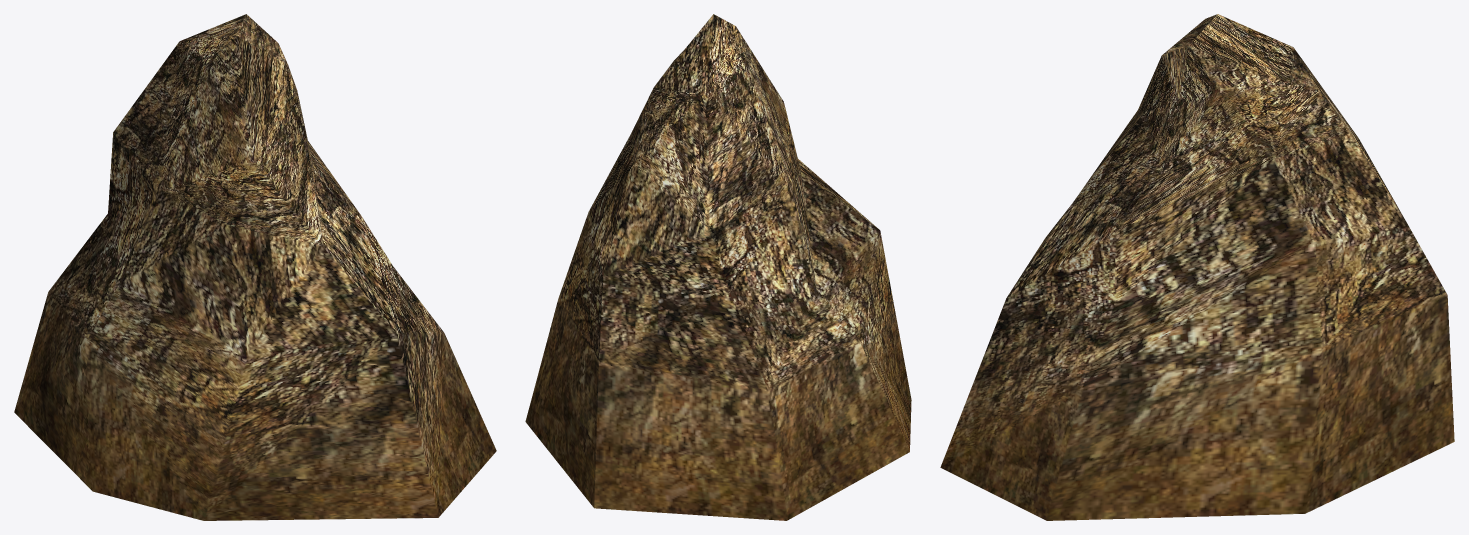
File: hr_rock6.glb
3 views of the same model, side by side, from view 1: azimuth 30°, elevation 25°; view 2: azimuth 150°, elevation 25°; view 3: azimuth 270°, elevation 25° (orthographic). The views are drawn at different scales.
Parts seen in each view (by area): view 1: hr_rock6-col; view 2: hr_rock6-col; view 3: hr_rock6-col.
Part boxes in pixels (x1,y1,x2,y2): hr_rock6-col: (14,14,496,520); hr_rock6-col: (525,14,911,520); hr_rock6-col: (940,14,1454,520).
Size of the model in its own units: 7.75 by 9.06 by 9.88.
2 materials, 2 textured.
